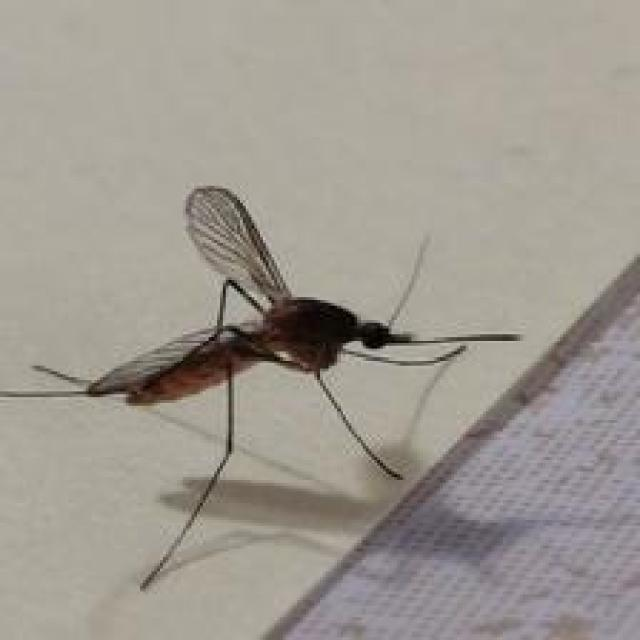Culex: (0, 183, 523, 591)
